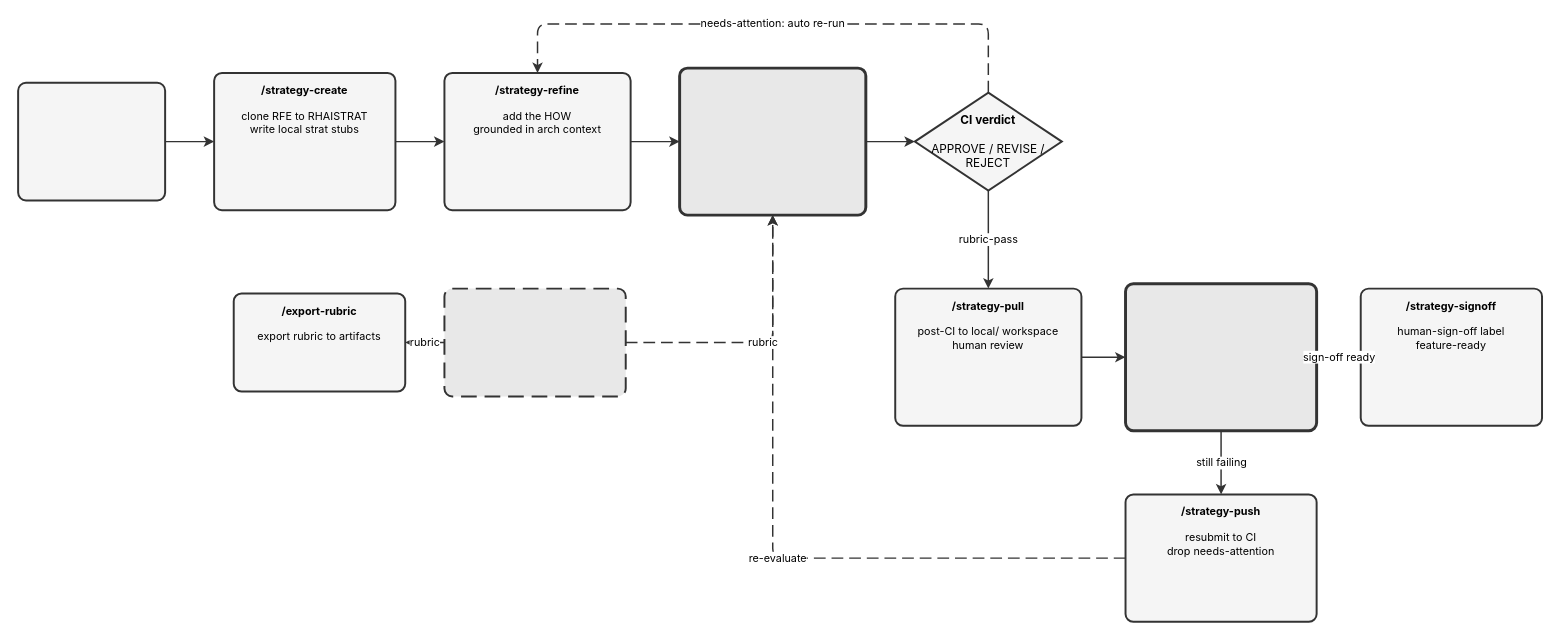
The diagram is 1559 pixels wide and 640 high, and some of its shapes have lost their labels. The box of each missing label's shape, as (x1, y1, x2, y2) in pixels:
/strategy-review rubric score 4 forked reviewers: (678, 66, 867, 216)
Approved RFE RHAIRFE + required labels rubric-pass / tech-reviewed: (17, 81, 166, 201)
assess-strat plugin scoring rubric provider: (443, 287, 626, 397)
Local refine + review same skills, local mode human iterates: (1124, 282, 1318, 432)
